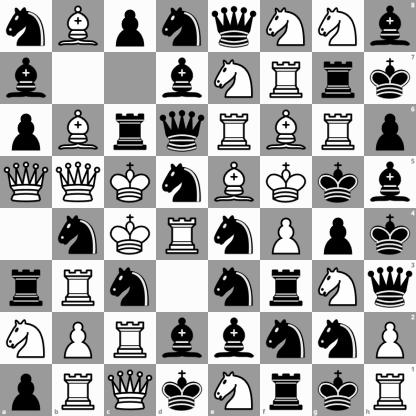B: (53, 1, 104, 52), (53, 105, 104, 156), (209, 157, 260, 208), (261, 105, 312, 156)
K: (105, 157, 156, 208), (105, 209, 156, 260), (261, 157, 312, 208)
N: (209, 364, 260, 416), (1, 313, 52, 364), (209, 53, 260, 104), (261, 1, 312, 52), (313, 1, 364, 52), (313, 261, 364, 312)
P: (364, 312, 416, 364), (53, 313, 104, 364), (261, 209, 312, 260)
Q: (104, 364, 156, 416), (1, 157, 52, 208), (53, 157, 104, 208)
R: (52, 364, 104, 416), (364, 364, 416, 416), (53, 261, 104, 312), (105, 313, 156, 364), (157, 209, 208, 260), (209, 105, 260, 156), (261, 53, 312, 104), (313, 105, 364, 156)
b: (364, 156, 416, 209), (364, 0, 416, 52), (1, 53, 52, 104), (157, 53, 208, 104), (157, 313, 208, 364), (209, 313, 260, 364)
board: (0, 0, 415, 415)
k: (156, 364, 209, 416), (312, 364, 364, 416), (364, 52, 416, 104), (364, 209, 416, 260), (313, 157, 364, 208)
n: (1, 1, 52, 52), (53, 209, 104, 260), (105, 261, 156, 312), (157, 1, 208, 52), (157, 157, 208, 208), (209, 209, 260, 260), (209, 261, 260, 312), (261, 313, 312, 364), (313, 313, 364, 364)
p: (0, 364, 52, 416), (364, 104, 416, 156), (1, 105, 52, 156), (105, 1, 156, 52), (313, 209, 364, 260)
q: (364, 260, 416, 312), (157, 105, 208, 156), (209, 1, 260, 52)
r: (260, 364, 312, 416), (1, 261, 52, 312), (105, 105, 156, 156), (261, 261, 312, 312), (313, 53, 364, 104)
